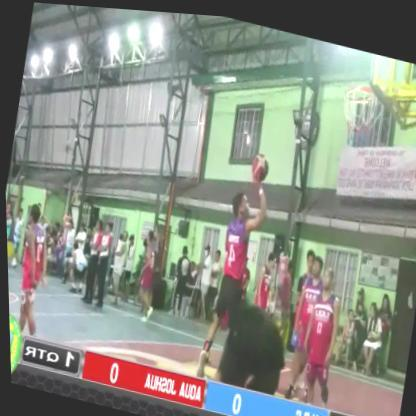basketball: (243, 135, 275, 188)
rim: (331, 63, 389, 158)
